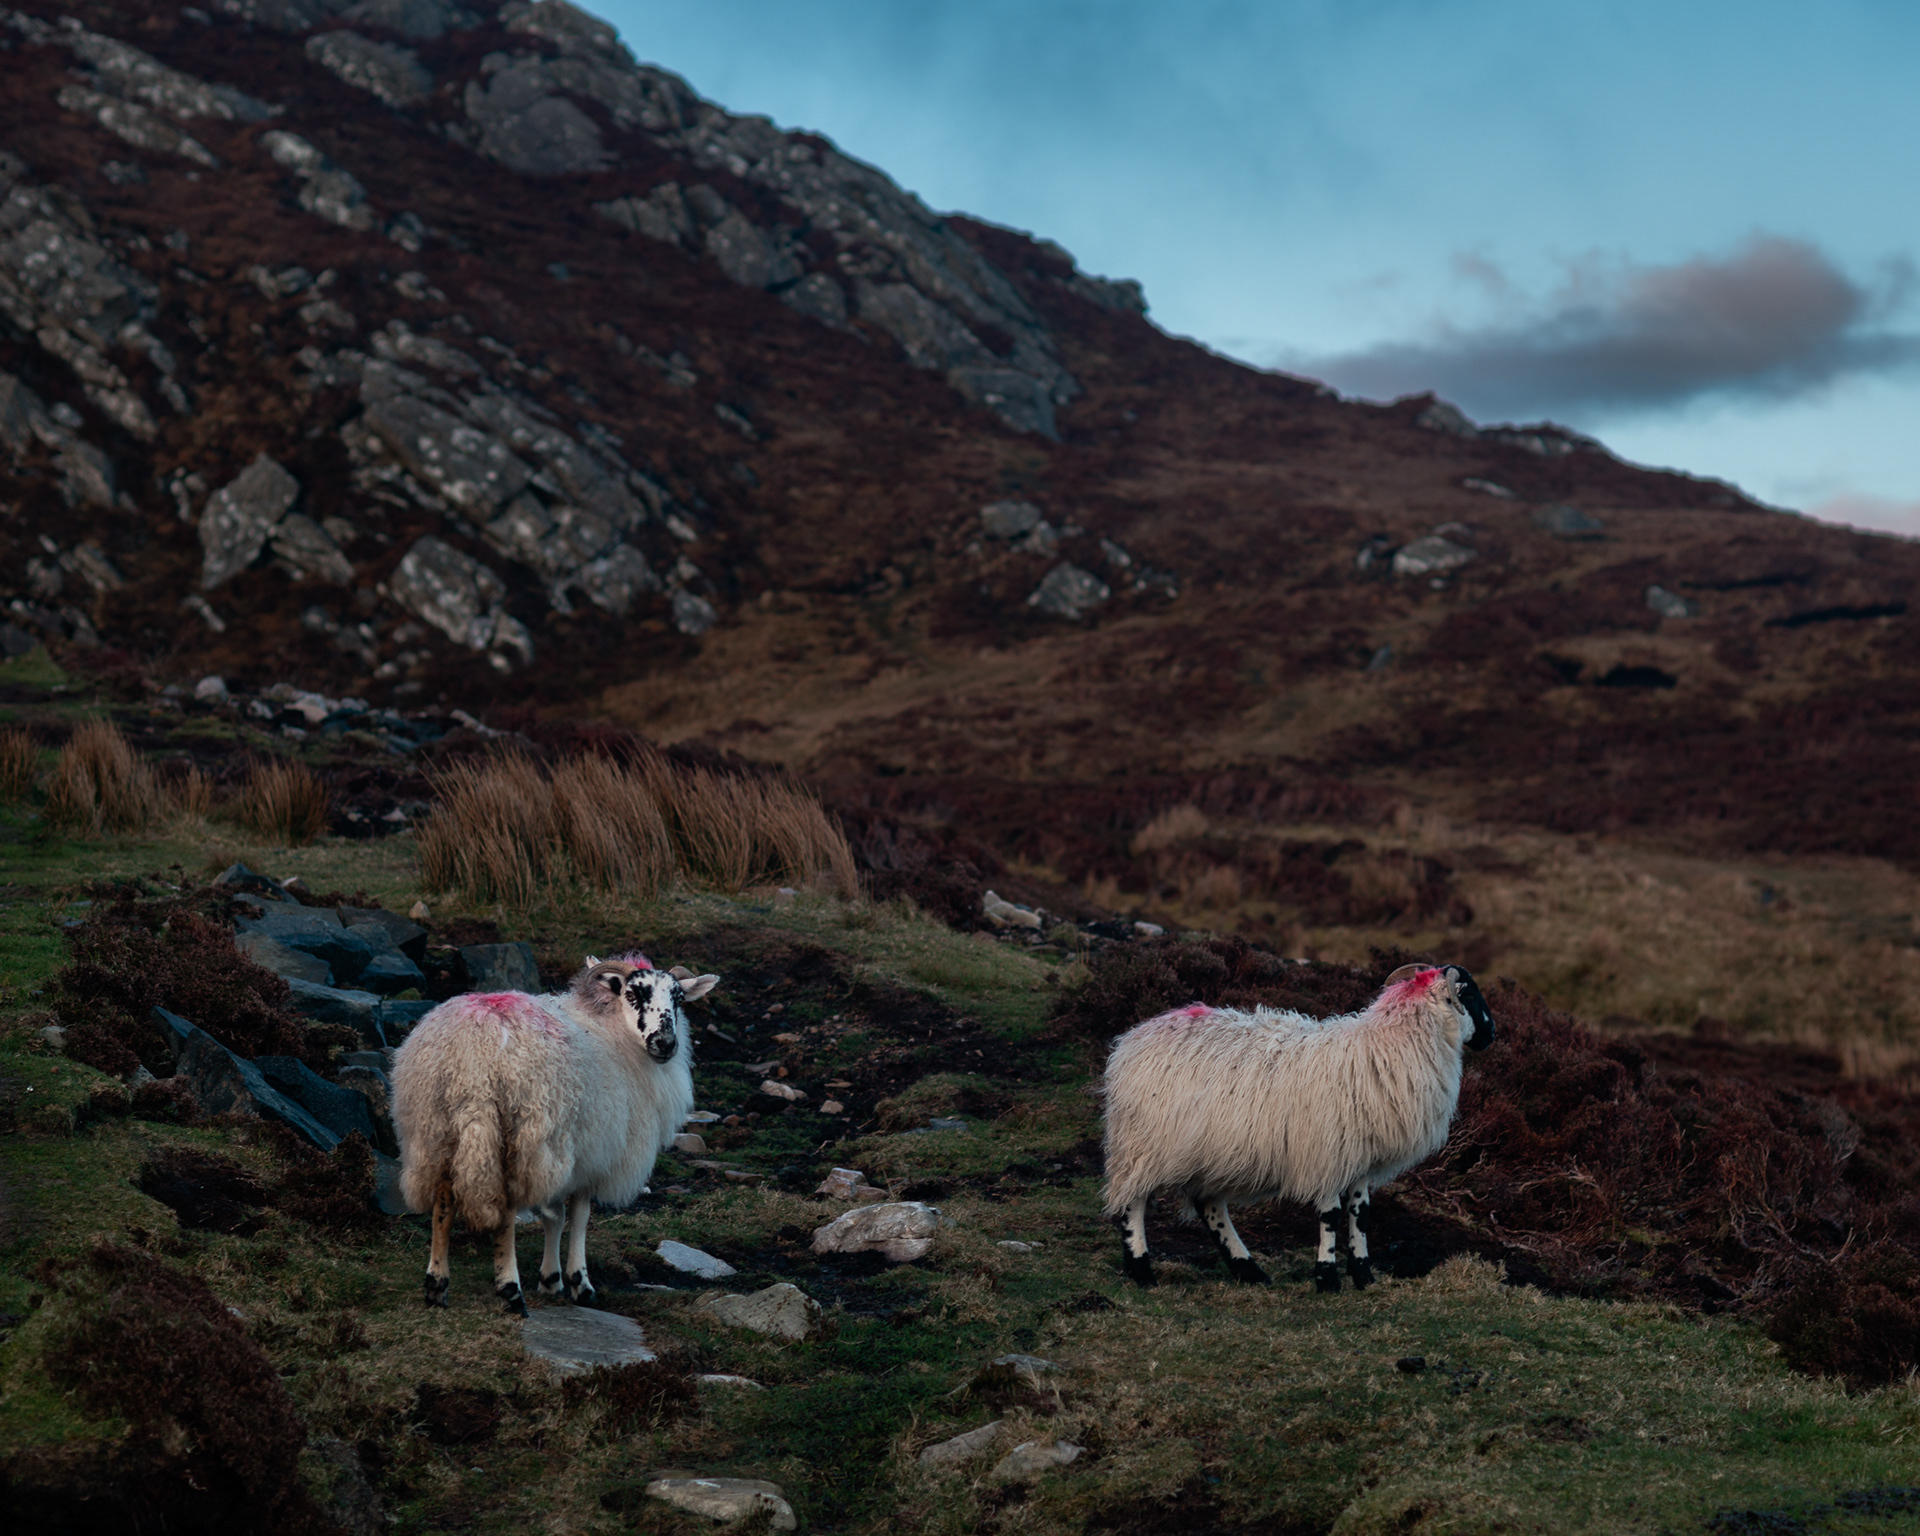sheep: (1074, 961, 1502, 1291), (342, 948, 715, 1307)
